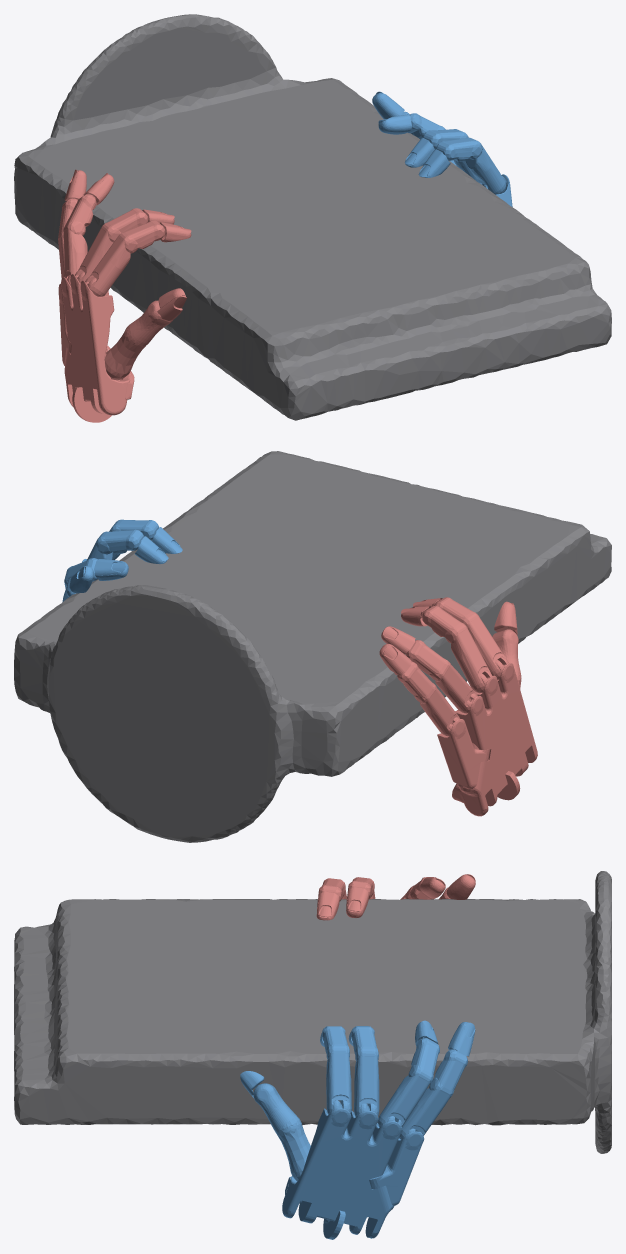
The model's file is video_game_console.glb.
3 views of the same model, one above another, from view 1: azimuth 30°, elevation 25°; view 2: azimuth 150°, elevation 25°; view 3: azimuth 270°, elevation 25° (orthographic). The views are drawn at different scales.
Visible parts, largest first — view 1: object_mesh, left_shadow_hand, right_shadow_hand; view 2: object_mesh, left_shadow_hand, right_shadow_hand; view 3: object_mesh, right_shadow_hand, left_shadow_hand.
Part boxes in pixels (<box>): object_mesh: <box>14,14,611,420</box>; left_shadow_hand: <box>58,169,191,422</box>; right_shadow_hand: <box>372,91,512,206</box>; object_mesh: <box>14,451,611,842</box>; left_shadow_hand: <box>379,597,537,816</box>; right_shadow_hand: <box>62,519,182,602</box>; object_mesh: <box>14,871,611,1153</box>; right_shadow_hand: <box>240,1020,475,1239</box>; left_shadow_hand: <box>316,874,475,920</box>.
Size of the model in its own units: 0.4111 by 0.235 by 0.4764.
